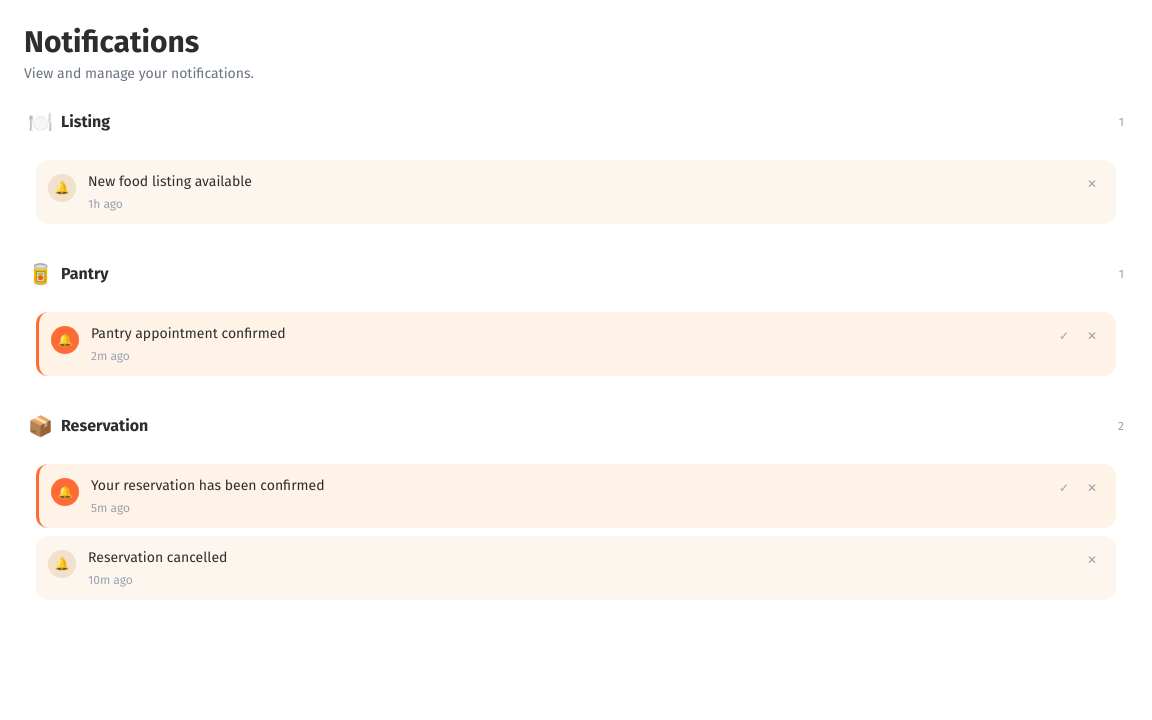
NotificationsPage › Delete › should remove notification from display after deletion
expect the text "Your reservation has been confirmed" is shown: met, box [91,477,324,494]
Click the button with test id "delete-button-notif-1" at (1092, 488), box [1080,476,1104,500]
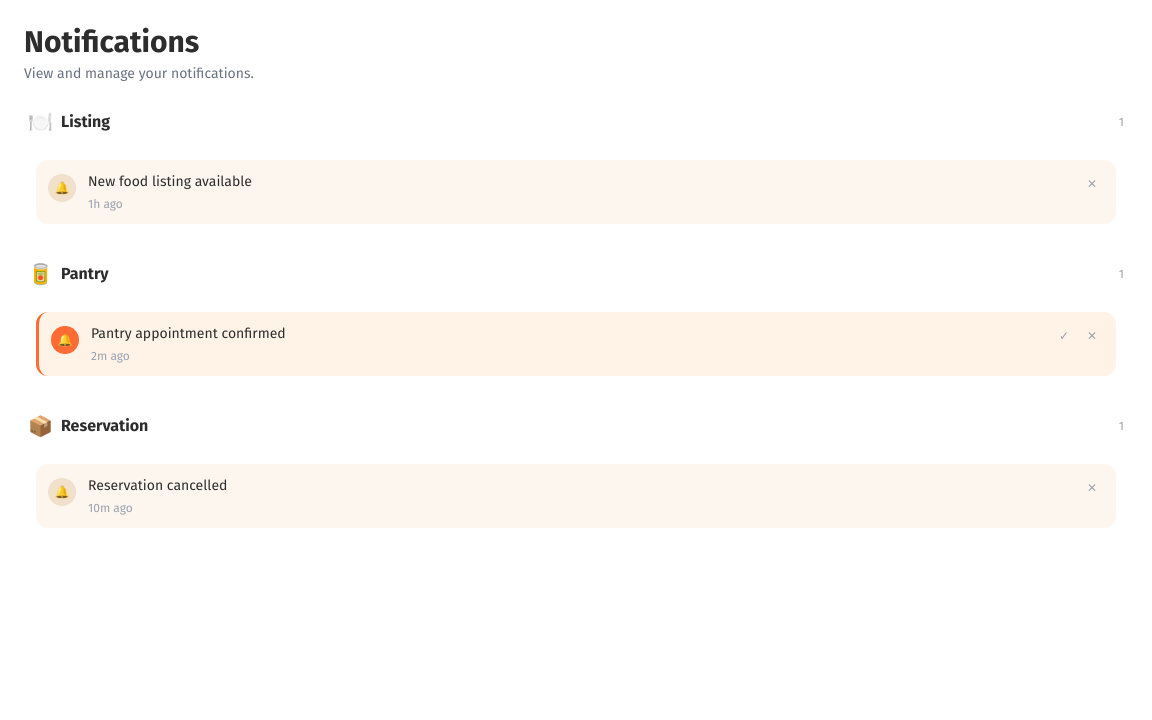
expect the text "Your reservation has been confirmed" is gone: met
